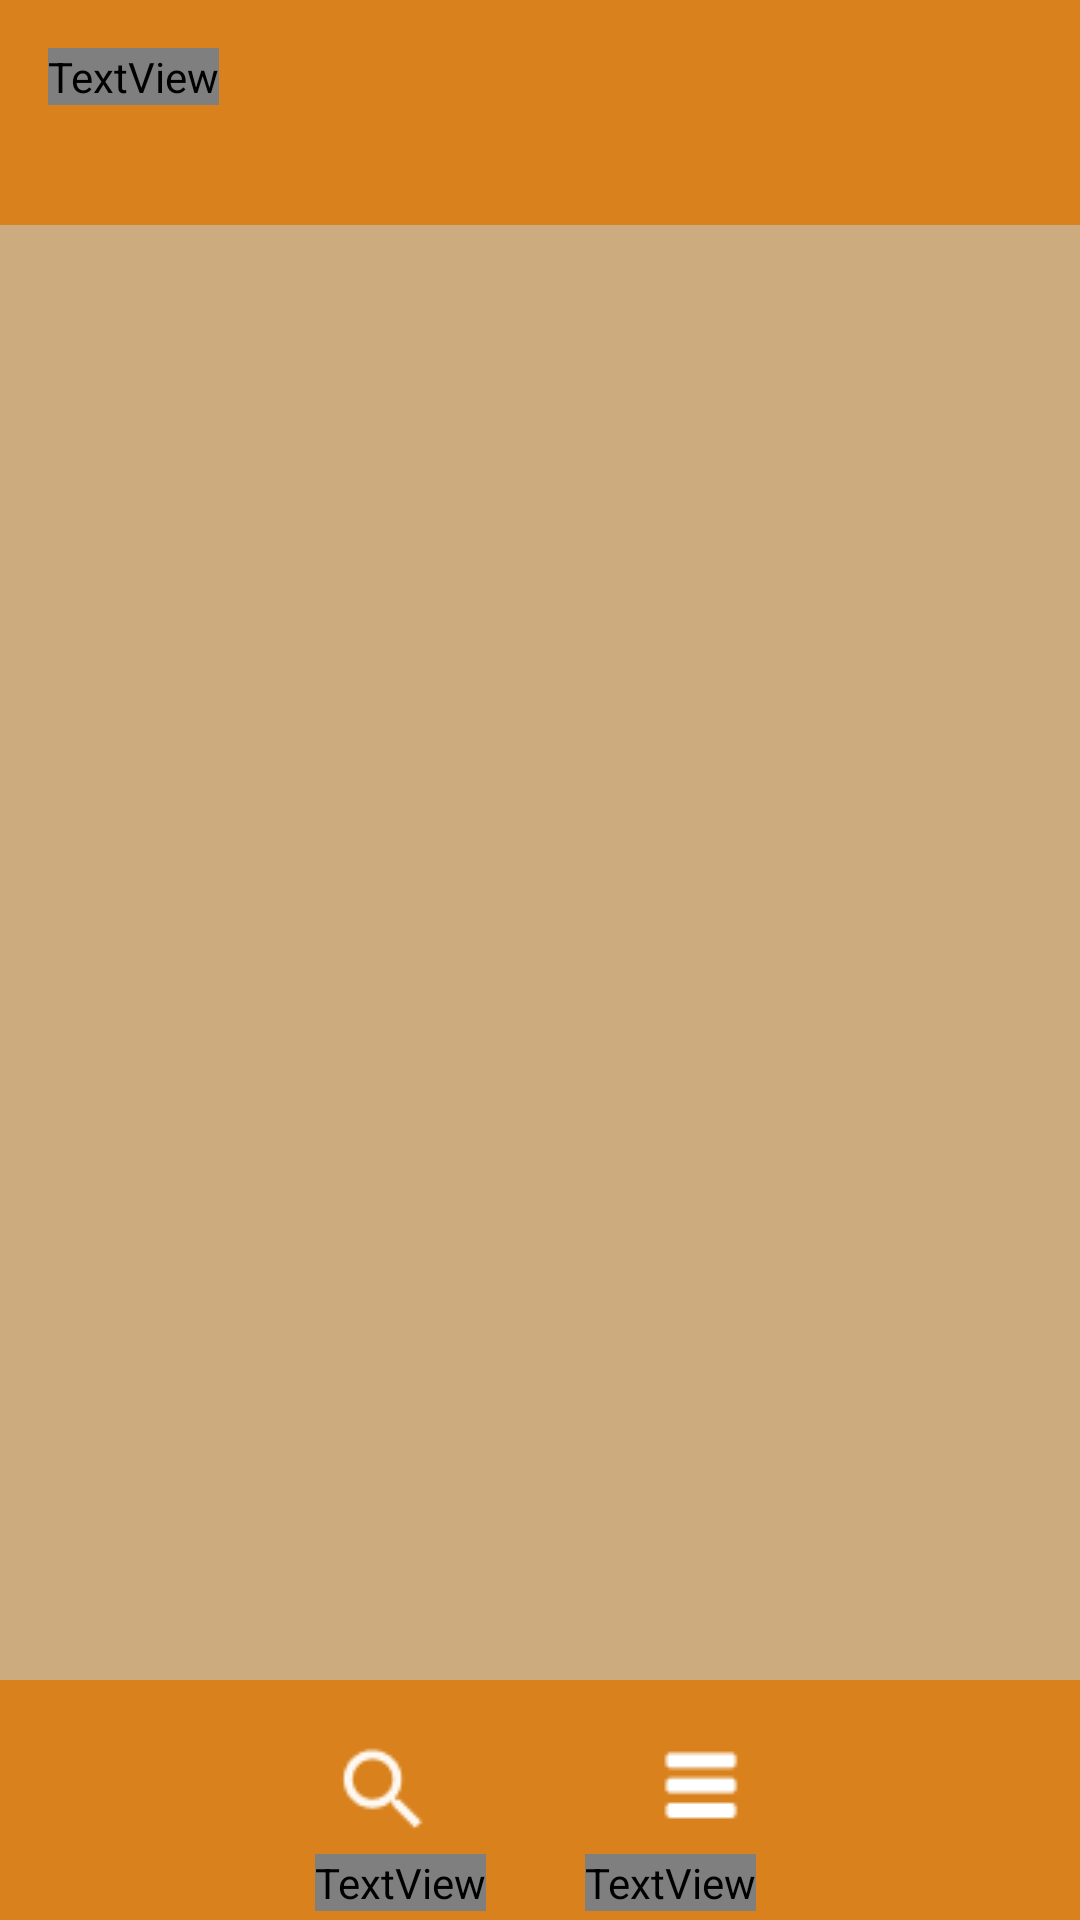

Named icons in this screenshot (1080px×1920px) and their centers, point (x, y):
search: point (391, 1810)
